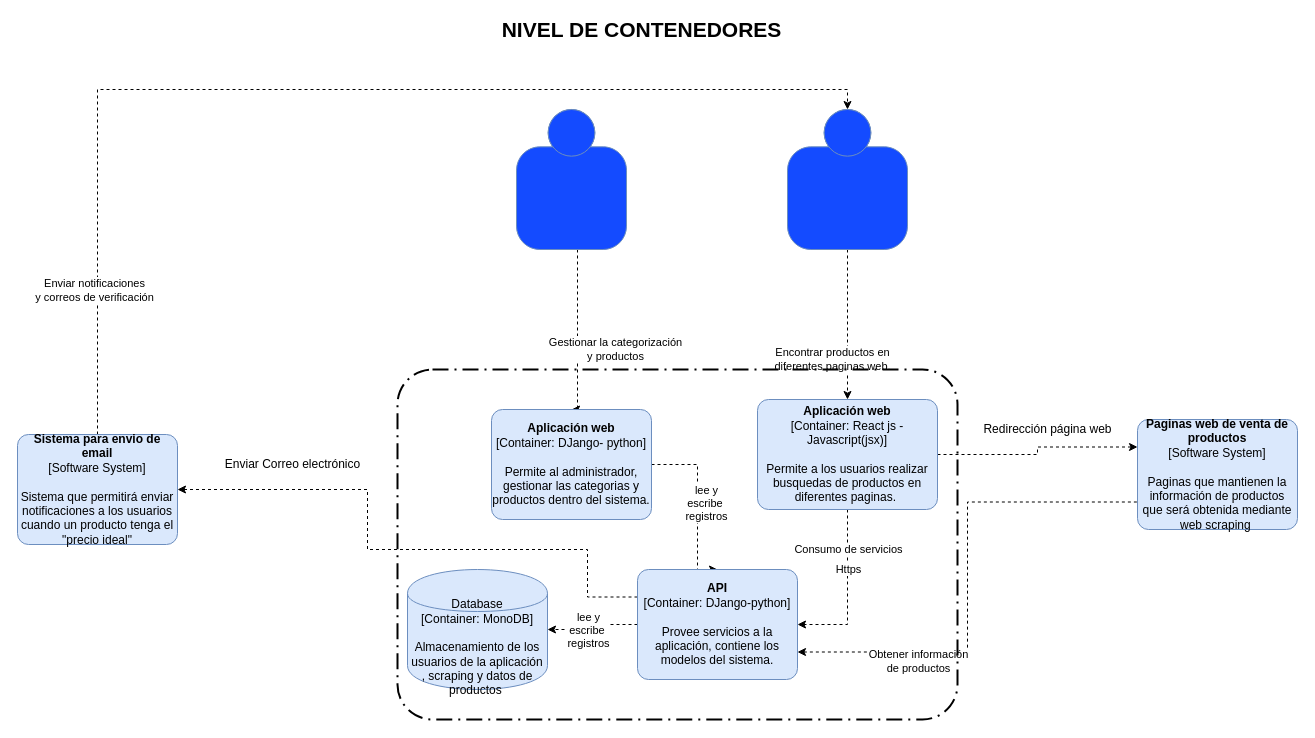
This 1315x738 diagram has some shape labels left out. The shapes that lost their labels are listed below. From the top down, each one's centre as x and y in pixels, then its label:
At [571,179]: "Administrador Persona designada a gestionar el sistema.".
At [847,179]: "Usuario Persona que accede al sistema para buscar productos".
